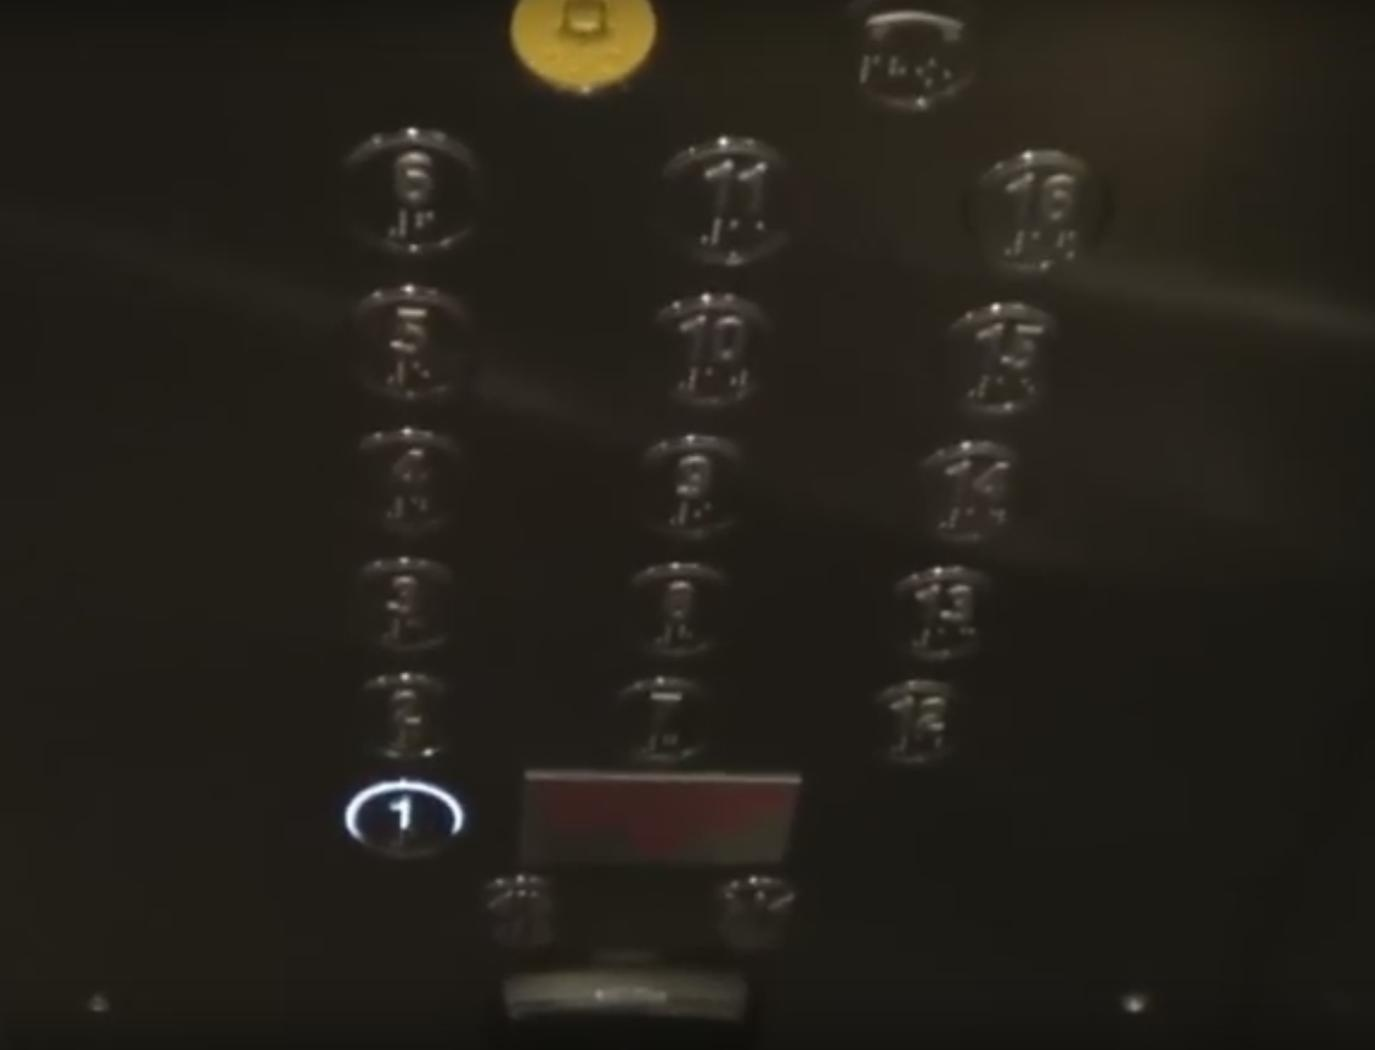1: (343, 775, 465, 868)
10: (638, 289, 780, 416)
11: (645, 129, 803, 274)
12: (862, 676, 967, 770)
13: (876, 559, 1008, 669)
14: (905, 433, 1034, 548)
15: (931, 300, 1065, 422)
16: (966, 143, 1107, 283)
2: (350, 667, 465, 769)
3: (341, 550, 469, 660)
4: (336, 421, 476, 538)
5: (335, 279, 484, 414)
6: (335, 122, 488, 265)
7: (600, 669, 721, 769)
8: (617, 557, 738, 660)
9: (622, 431, 754, 548)
alarm: (501, 1, 660, 101)
call: (847, 1, 981, 118)
close: (702, 870, 804, 952)
open: (471, 870, 573, 952)
